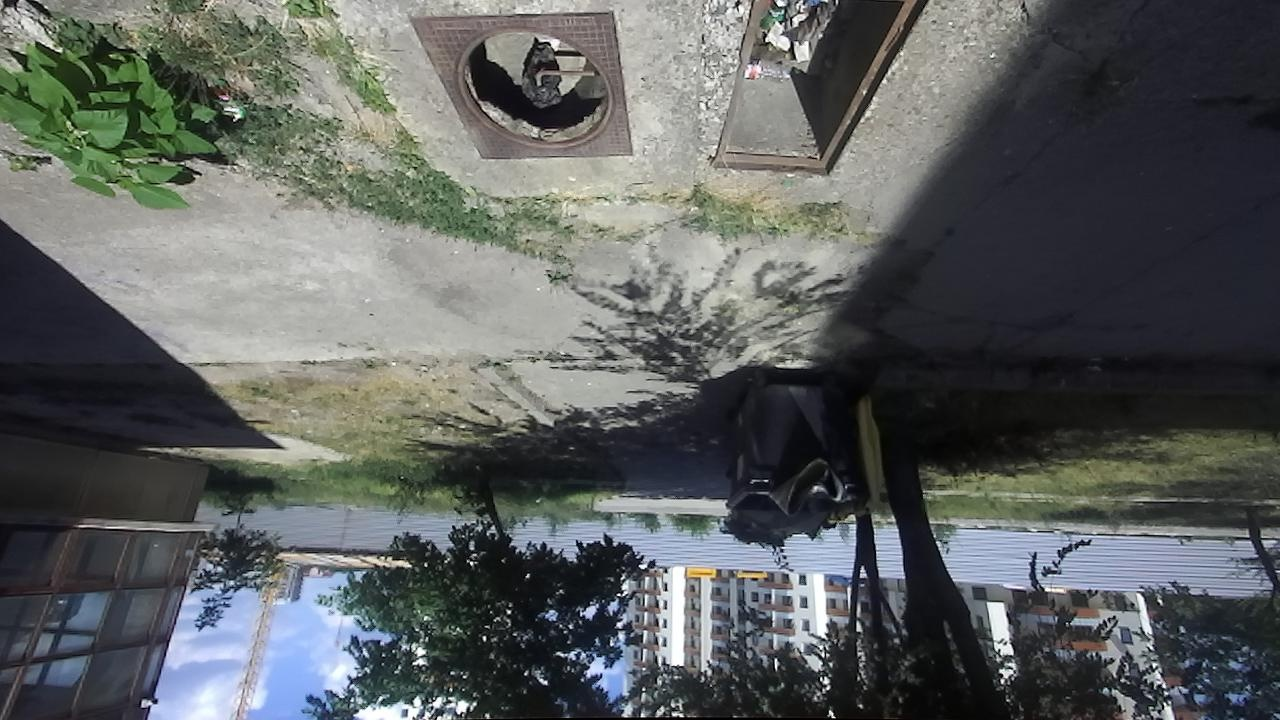drain: (705, 0, 930, 178), (452, 29, 616, 153)
